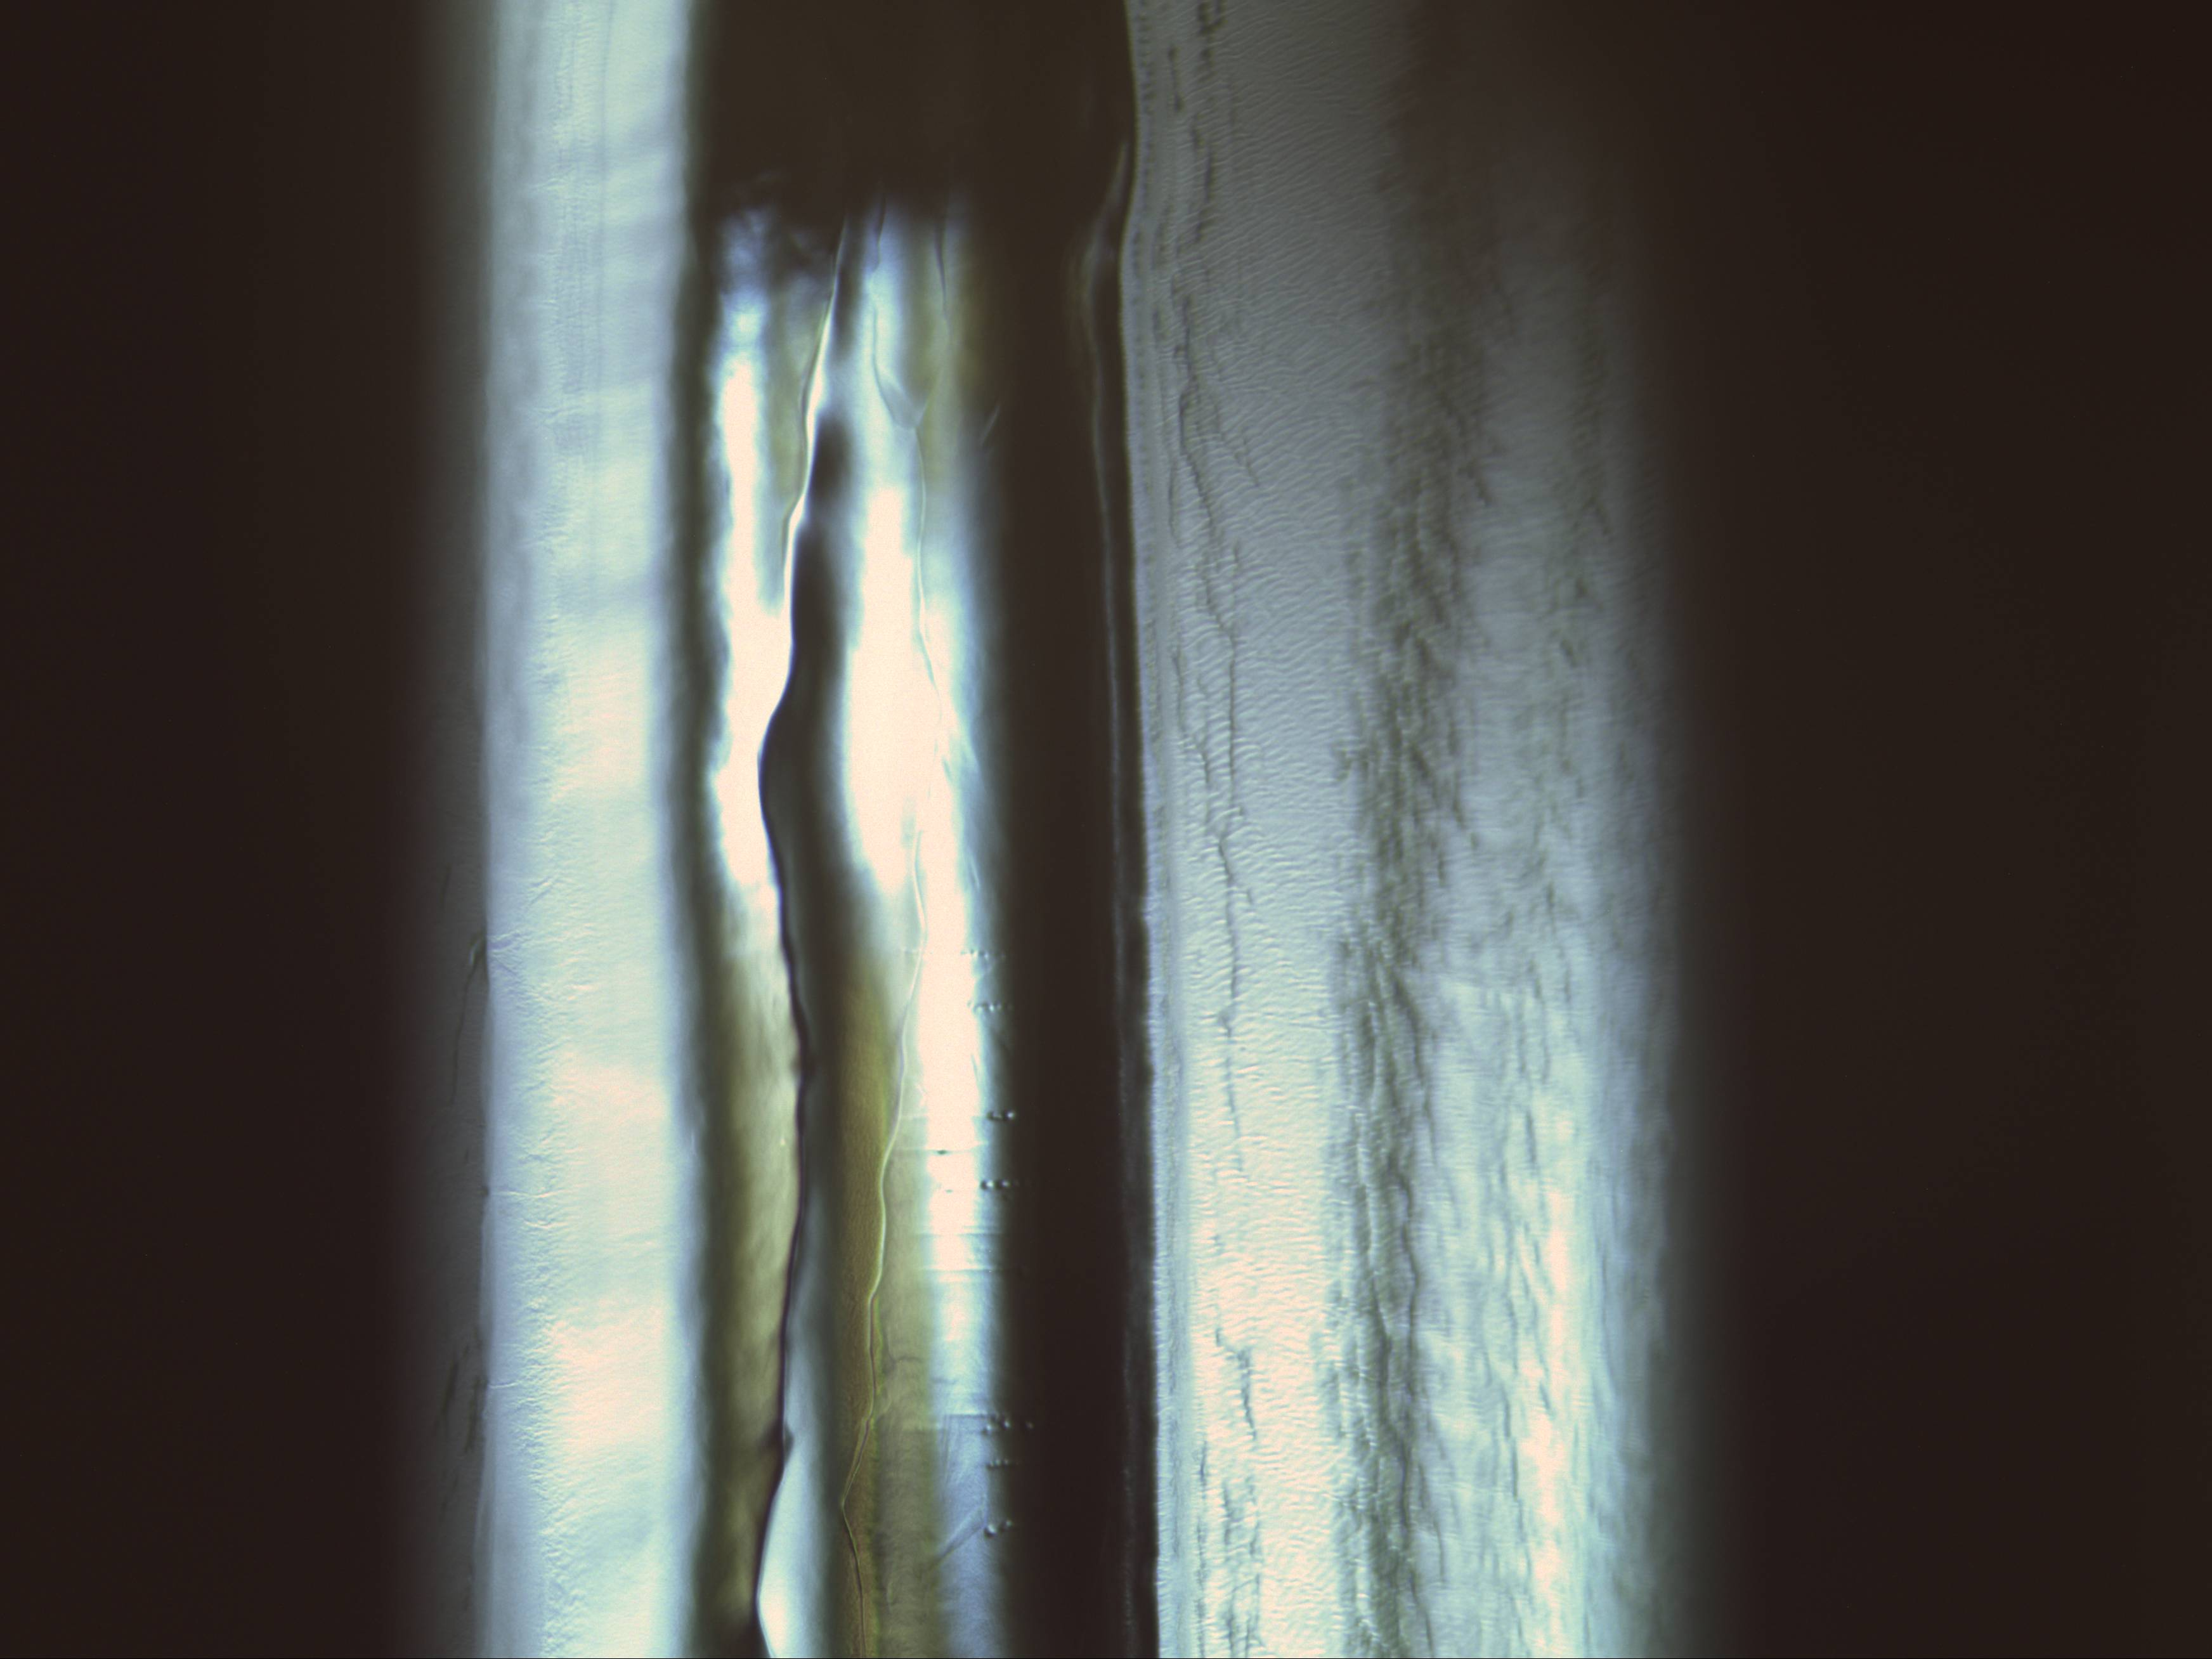defect: (967, 1398, 1049, 1446), (967, 1171, 1024, 1201), (979, 1511, 1024, 1542), (954, 941, 1007, 967), (979, 1096, 1019, 1126), (981, 1457, 1022, 1474)
